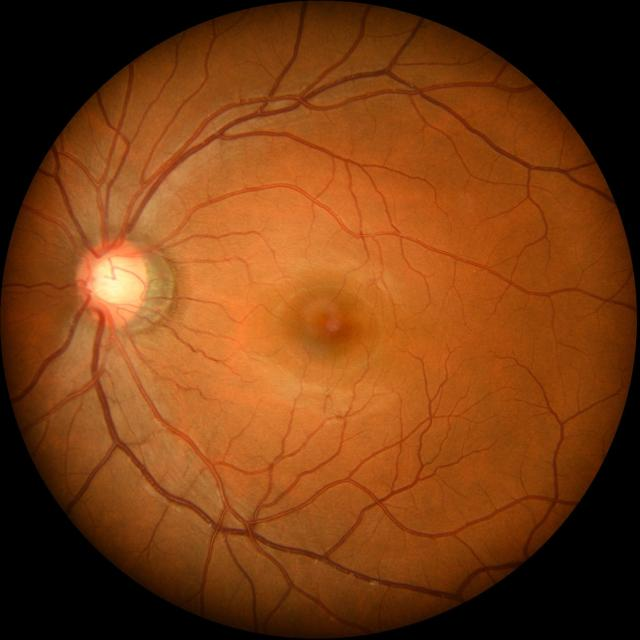OC: (91, 254, 138, 305)
OD: (75, 237, 146, 325)
